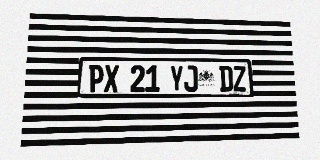1: (145, 65, 160, 92)
2: (130, 65, 145, 92)
D: (219, 66, 233, 92)
J: (184, 65, 198, 92)
P: (88, 65, 104, 92)
X: (104, 65, 119, 92)
Y: (170, 65, 184, 92)
Z: (233, 66, 247, 92)
